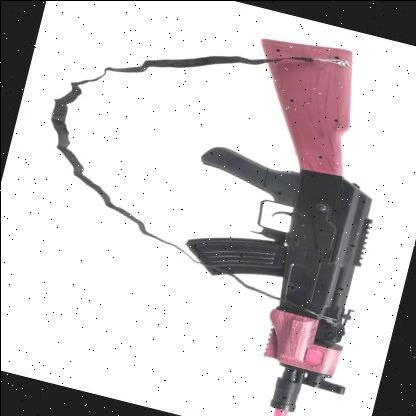rifle: (142, 17, 416, 416)
